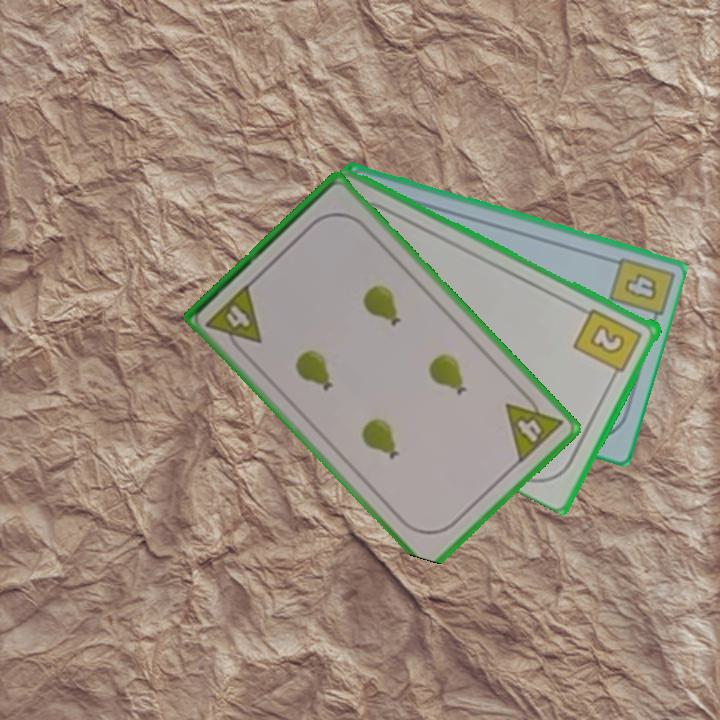2b: (571, 304, 646, 383)
4b: (621, 269, 661, 303)
4p: (502, 386, 567, 466), (202, 280, 265, 359)
